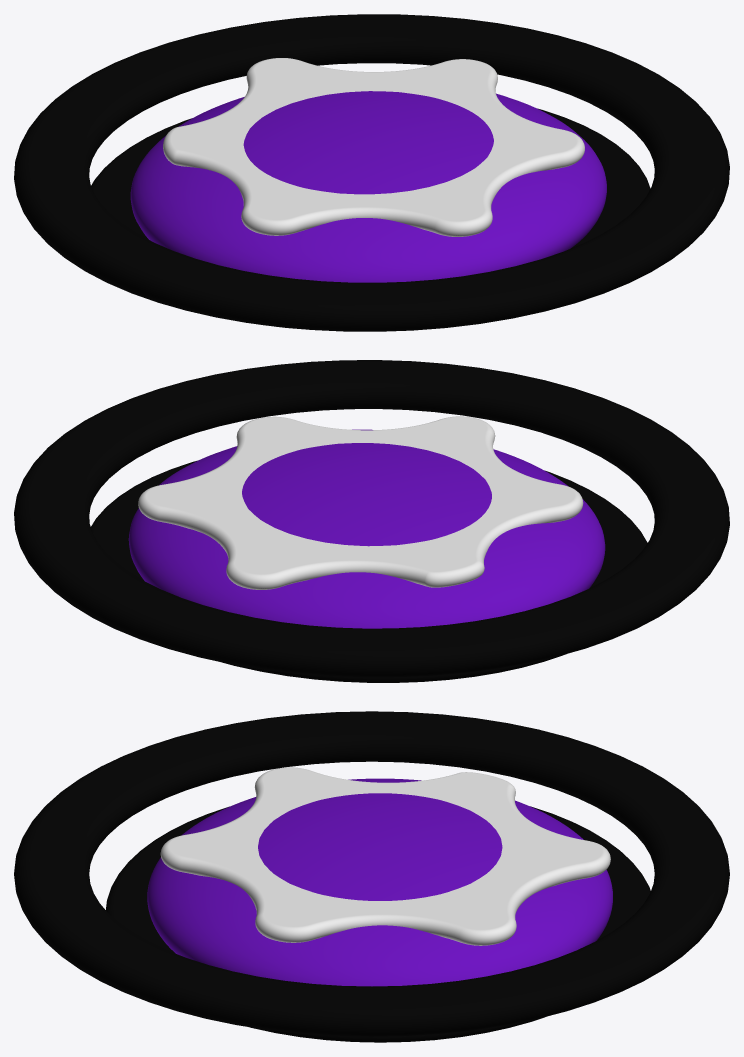
File: receptorPURPLE.glb
The picture shows the model from 3 angles, top to bottom: view 1: azimuth 30°, elevation 25°; view 2: azimuth 150°, elevation 25°; view 3: azimuth 270°, elevation 25°; orthographic projection.
Parts seen in each view (by area): view 1: Ellipse 4.001, Sphere 3, Star 3, Ellipse 4; view 2: Ellipse 4.001, Sphere 3, Star 3, Ellipse 4; view 3: Ellipse 4.001, Sphere 3, Star 3, Ellipse 4.
Boxes of the visible parts, bbox=[...] form: Ellipse 4.001: bbox=[14, 14, 729, 331]; Sphere 3: bbox=[130, 91, 606, 282]; Star 3: bbox=[163, 58, 584, 236]; Ellipse 4: bbox=[91, 108, 650, 329]; Ellipse 4.001: bbox=[14, 360, 729, 677]; Sphere 3: bbox=[128, 429, 605, 628]; Star 3: bbox=[138, 416, 583, 589]; Ellipse 4: bbox=[91, 460, 647, 682]; Ellipse 4.001: bbox=[14, 711, 729, 1036]; Sphere 3: bbox=[147, 778, 612, 986]; Star 3: bbox=[160, 767, 610, 945]; Ellipse 4: bbox=[106, 806, 650, 1042].
Size of the model in its own units: 4.3 by 0.766 by 4.23.
